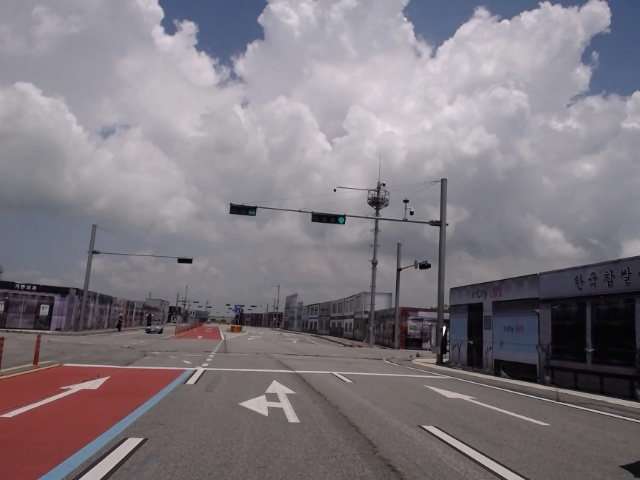straight_green_4: (311, 211, 347, 225)
